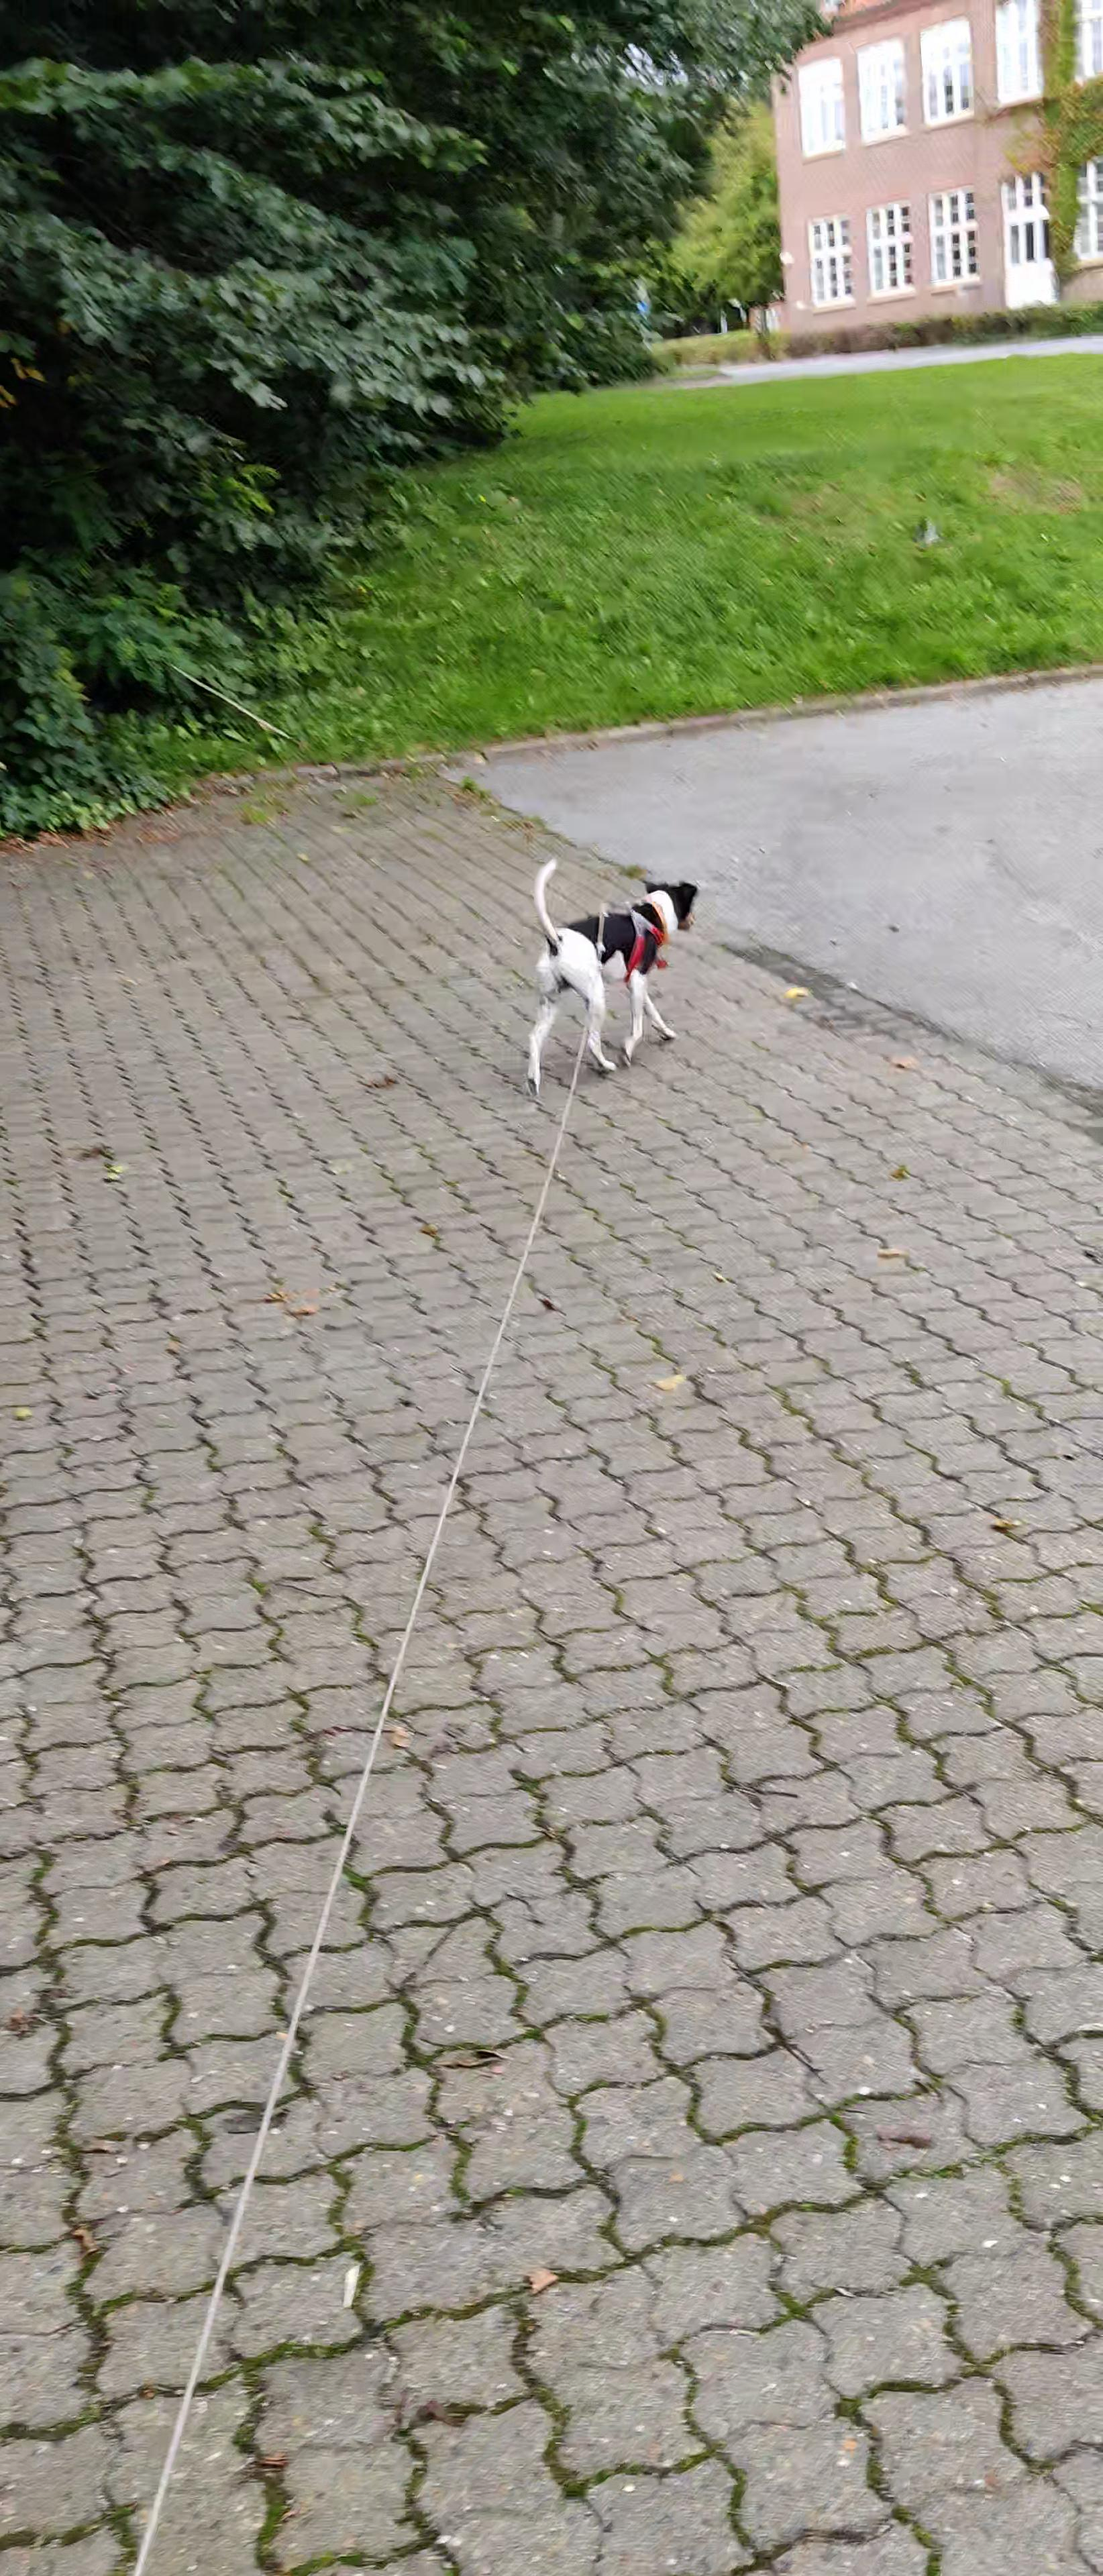Dog: (518, 856, 700, 1101)
